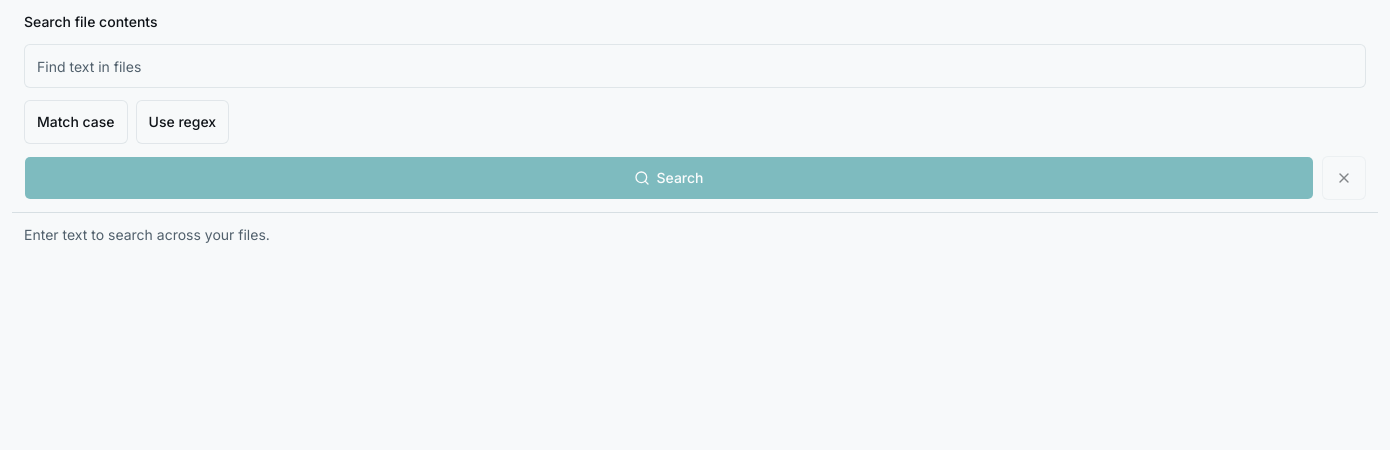
Test case: keeps result labels tied to the submitted query and exposes retry without discarding them
Step 1. Type "items" into the field labelled "Search file contents" → (695, 66), box [24,44,1366,88]
Then press Enter
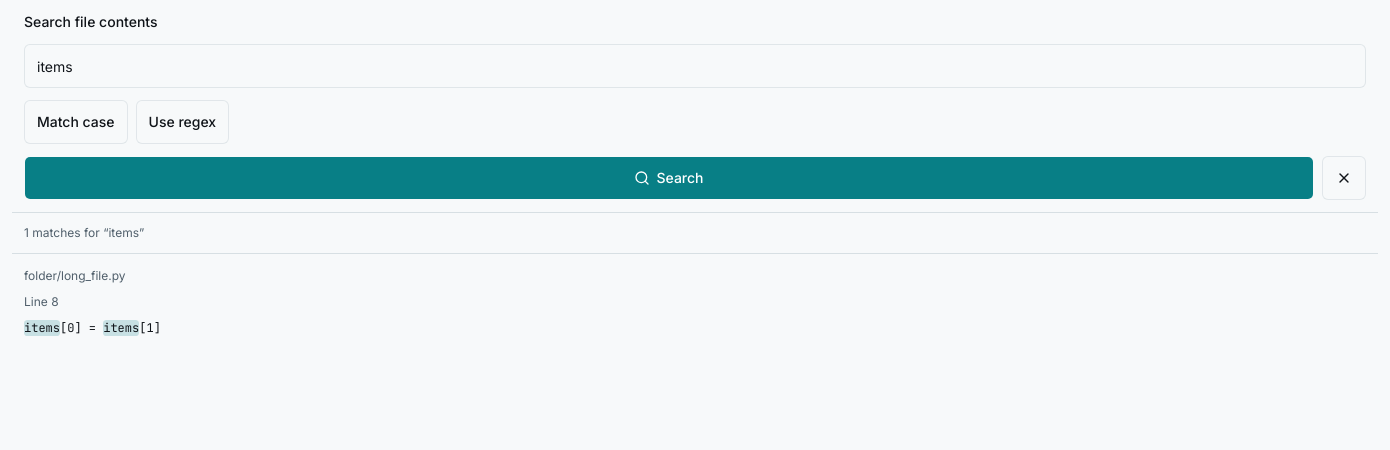
expect the text "folder/long_file.py" is shown: met, box [24,268,126,283]
Step 2. Replace the text in the field labelled "Search file contents" with "other" → (695, 66), box [24,44,1366,88]
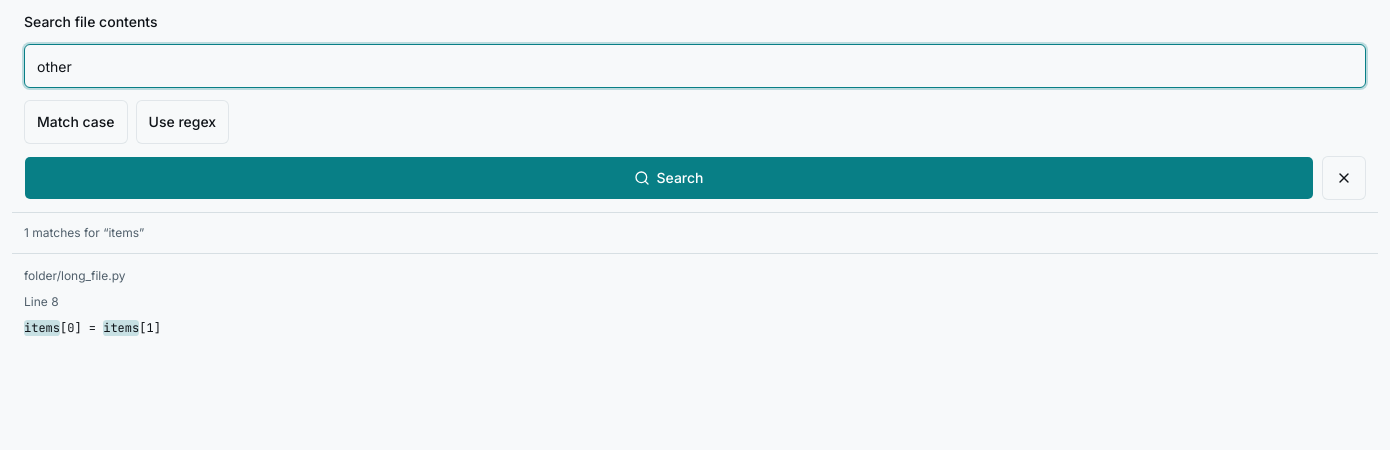
expect the message shows "matches for “items”": met, box [12,213,1378,254]
Step 3. Press Enter
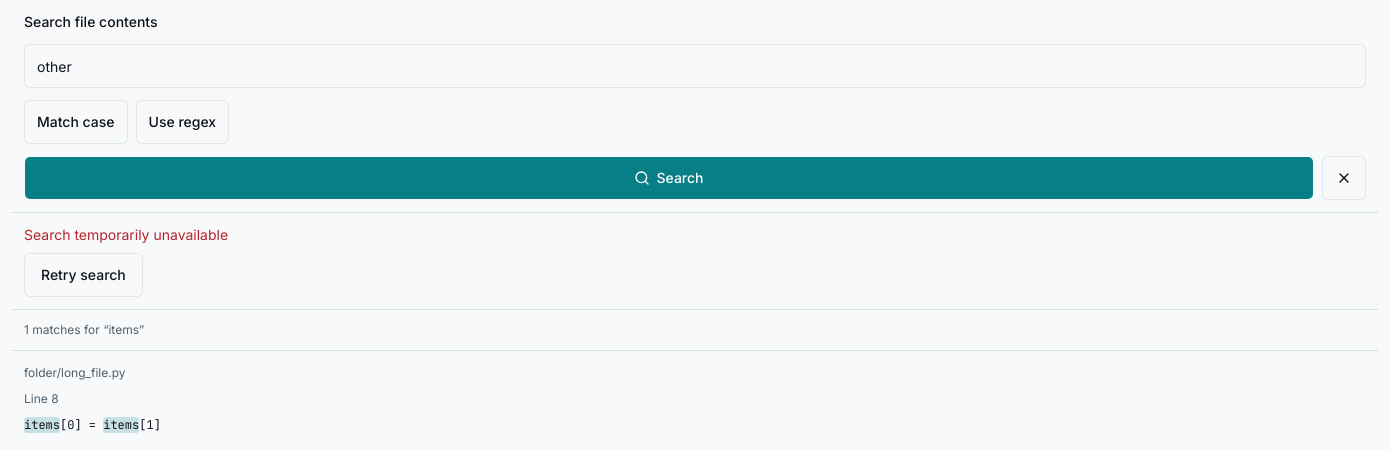
expect the text "folder/long_file.py" is shown: met, box [24,365,126,380]
expect the message "Search temporarily unavailable" is shown: met, box [24,226,228,243]
Step 4. Click the button "Retry search" → (83, 275), box [24,253,143,297]
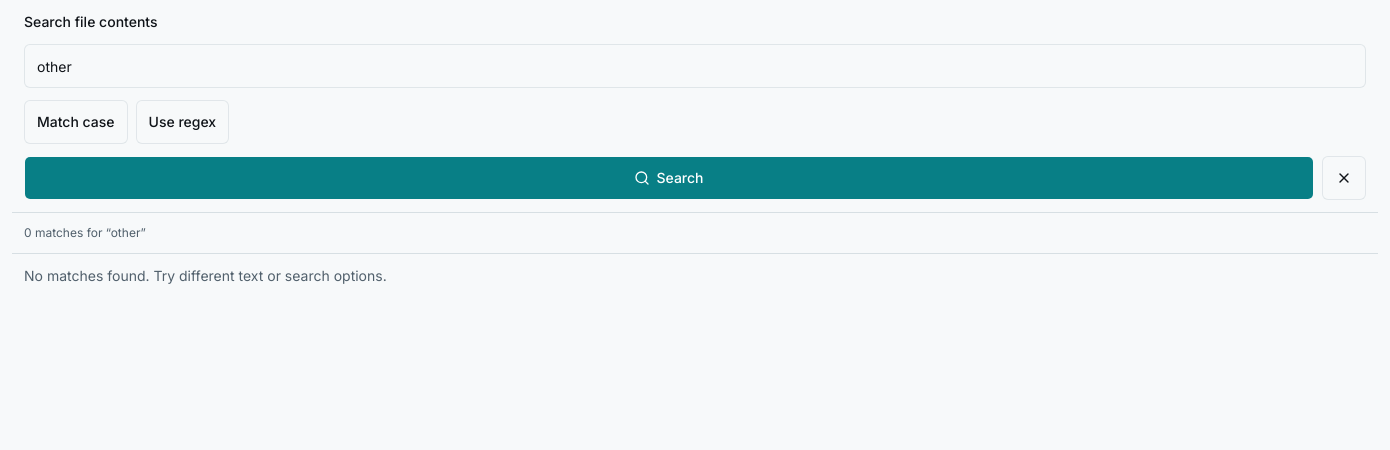
expect the text "No matches found. Try different text or search options." is shown: met, box [24,267,387,284]
